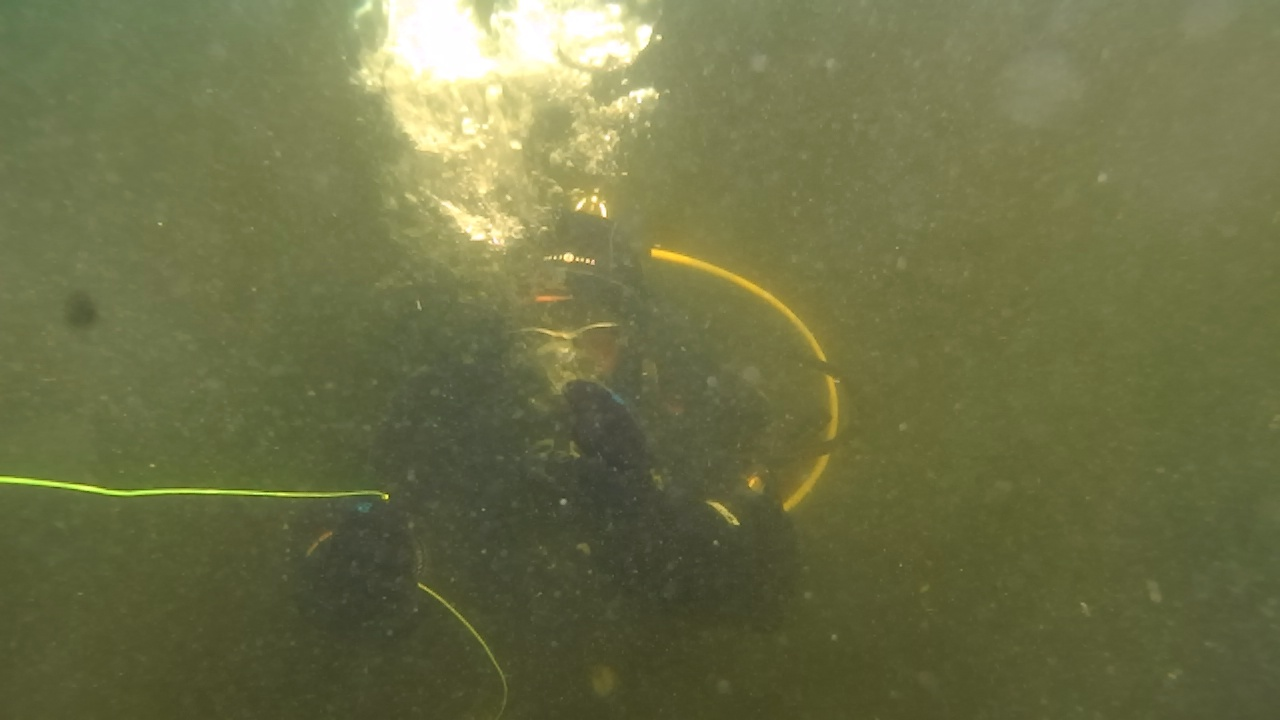Diver: (282, 190, 838, 662)
Hand: (556, 372, 686, 546), (296, 500, 434, 648)
Head: (492, 200, 650, 388)
